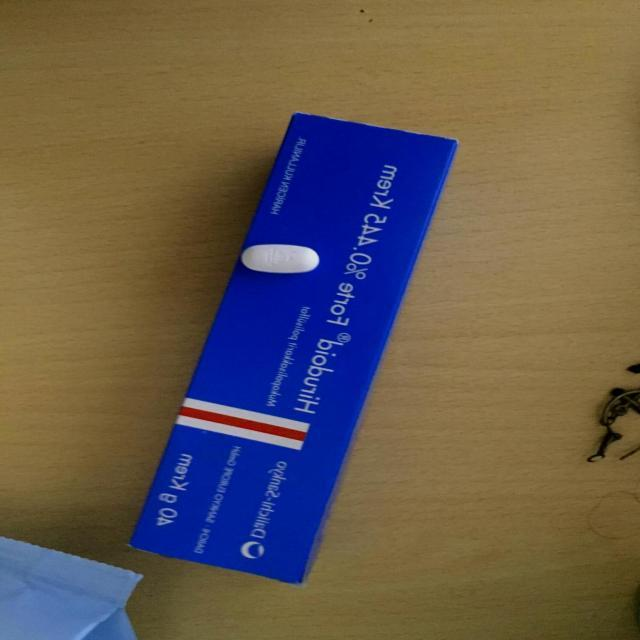pill: (242, 242, 328, 278)
